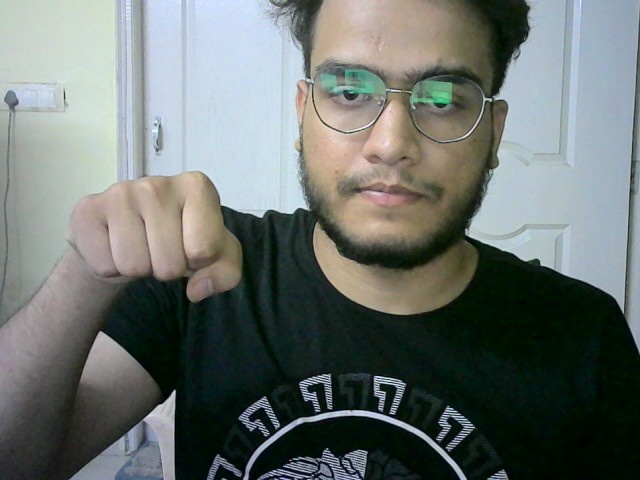Yes: (46, 169, 265, 310)
